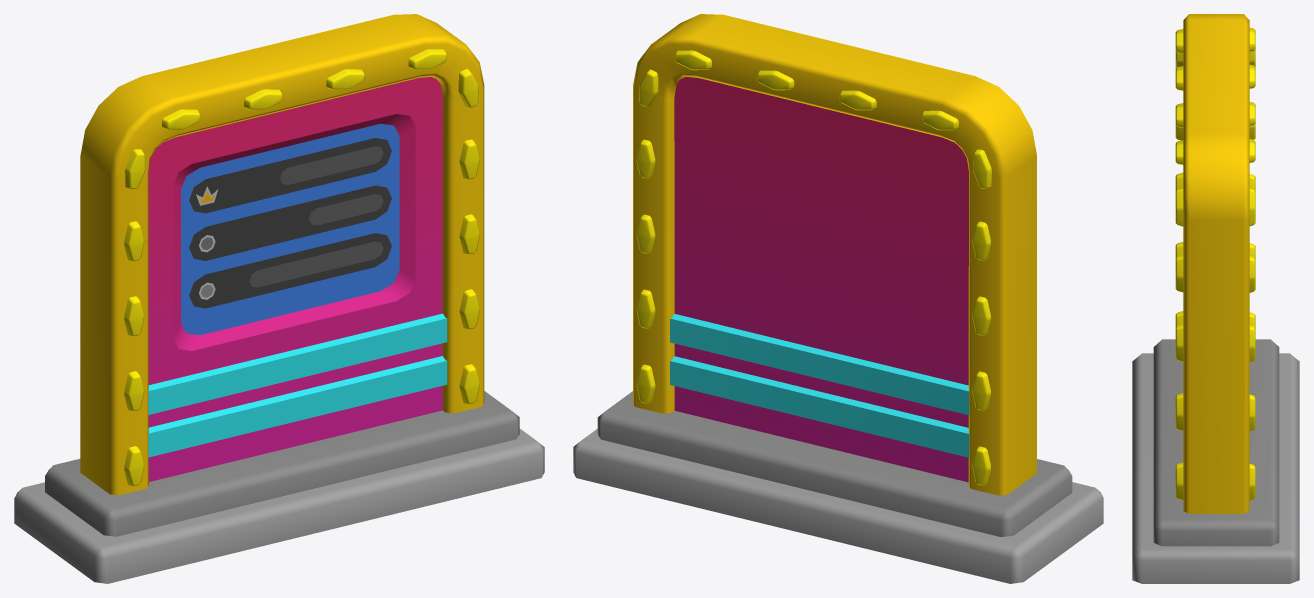
File: leaderboard_001.fbx
The picture shows the model from 3 angles, left to right: view 1: azimuth 30°, elevation 25°; view 2: azimuth 150°, elevation 25°; view 3: azimuth 270°, elevation 25°; orthographic projection. The views are drawn at different scales.
Parts seen in each view (by area): view 1: leaderboard_001; view 2: leaderboard_001; view 3: leaderboard_001.
Boxes of the visible parts, bbox=[...] form: leaderboard_001: bbox=[14, 14, 544, 583]; leaderboard_001: bbox=[573, 14, 1103, 583]; leaderboard_001: bbox=[1132, 14, 1299, 583].
Size of the model in its own units: 296 by 103 by 277.
